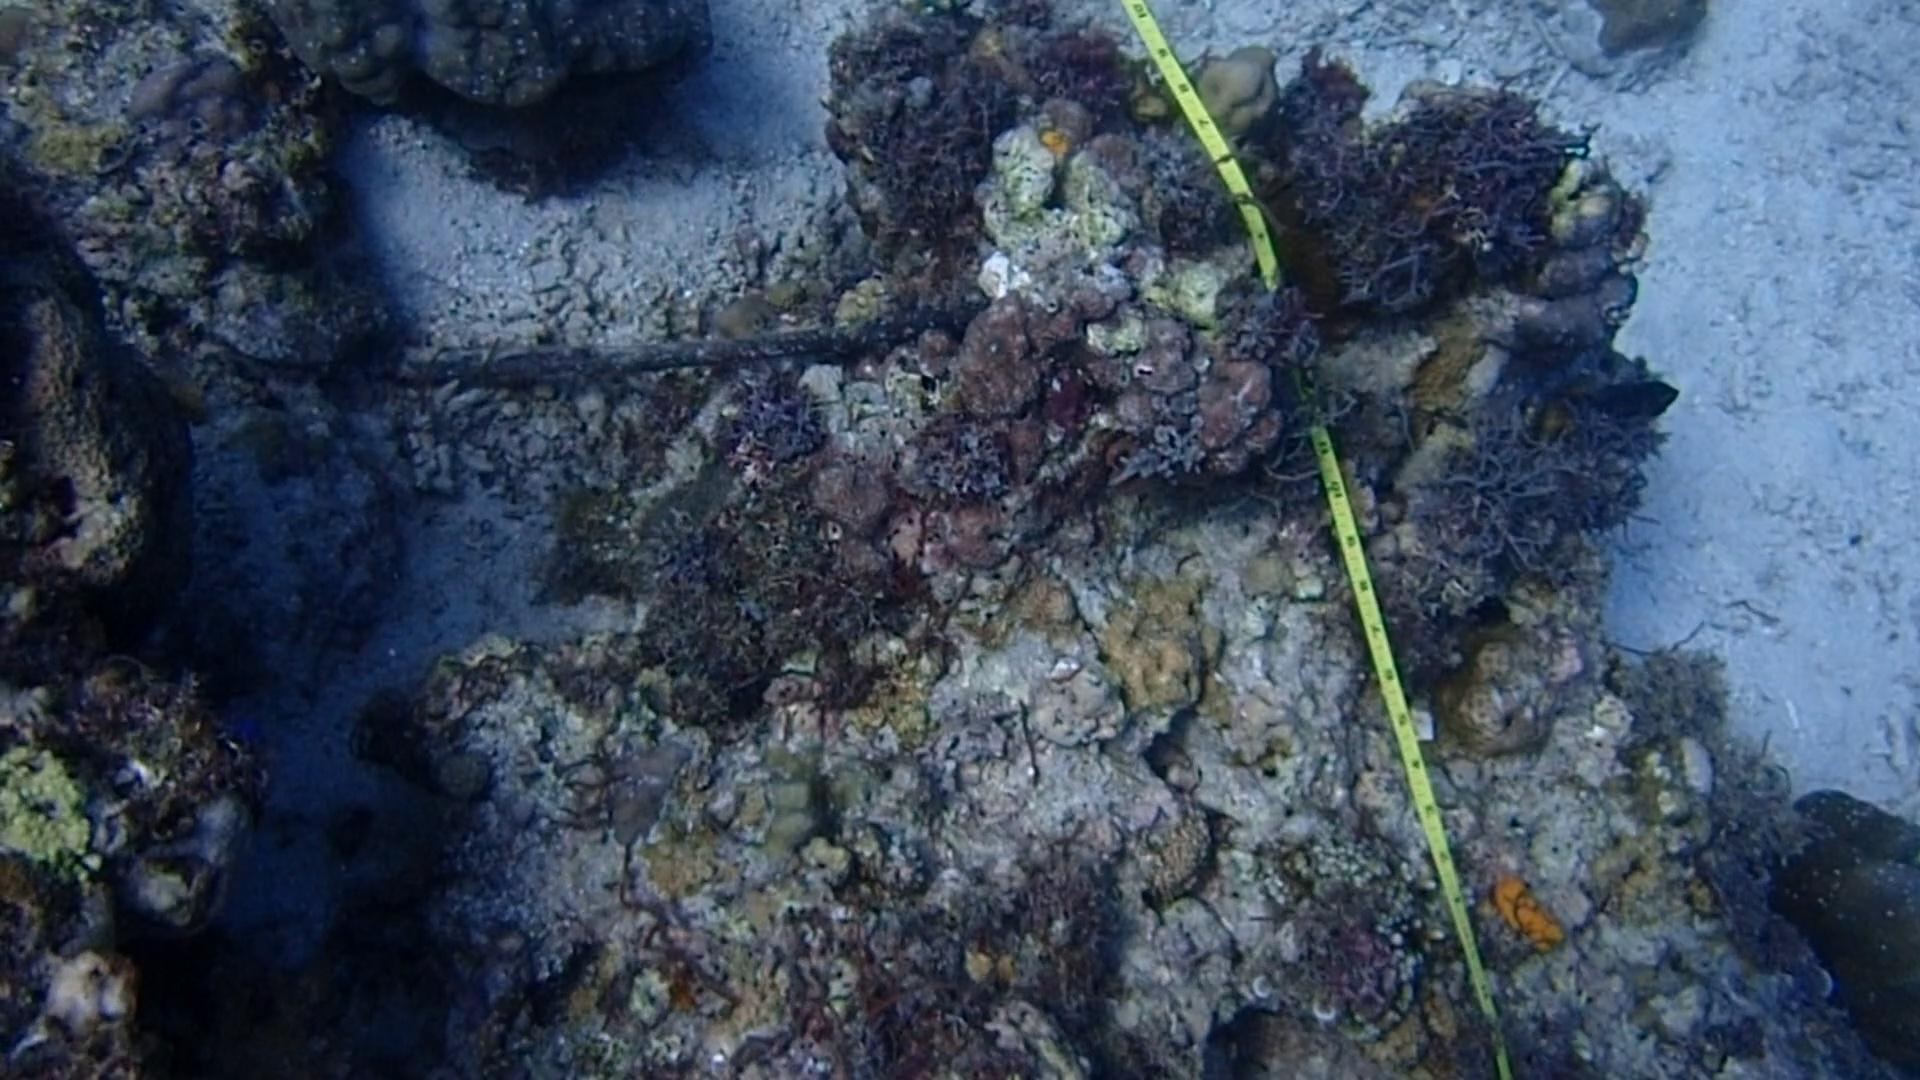Dark Fish: (1585, 360, 1693, 443)
